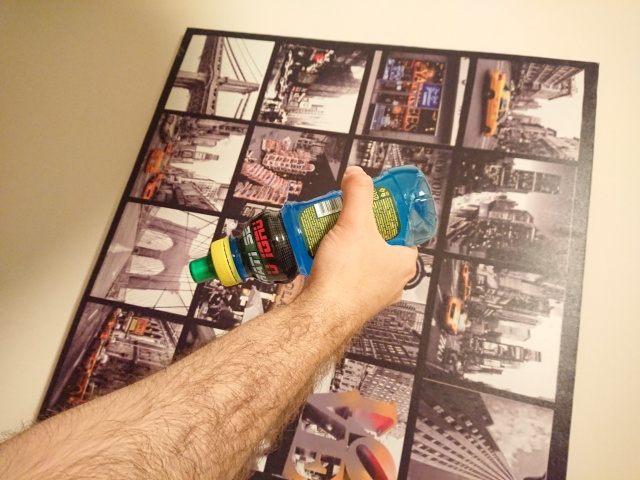Vindi Iso Sport Forest Strawberries 500mL: (187, 162, 440, 289)
